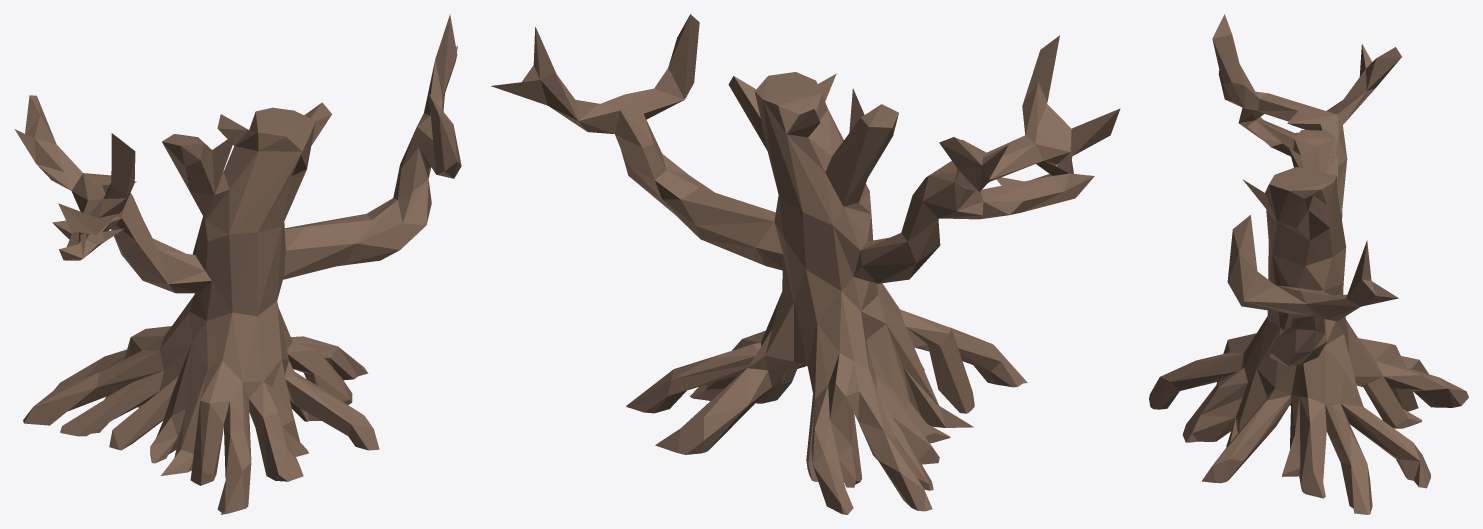
Rendered from empty tree.fbx.
3 views of the same model, side by side, from view 1: azimuth 30°, elevation 25°; view 2: azimuth 150°, elevation 25°; view 3: azimuth 270°, elevation 25° (orthographic). The views are drawn at different scales.
Visible parts, largest first — view 1: BezierCurve.001; view 2: BezierCurve.001; view 3: BezierCurve.001.
Boxes of the visible parts, x1,y1,x2,y2 form: BezierCurve.001: (14,14,461,514); BezierCurve.001: (491,14,1120,514); BezierCurve.001: (1149,14,1468,514).
Bounding box in the file's own units: 20371 × 14592 × 12101.
1 material, 1 textured.
